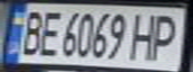0: (75, 8, 96, 59)
6: (90, 9, 112, 60), (57, 8, 78, 59)
9: (106, 9, 133, 61)
B: (15, 6, 48, 56)
E: (36, 7, 63, 57)
H: (127, 10, 163, 61)
P: (145, 10, 187, 61)
